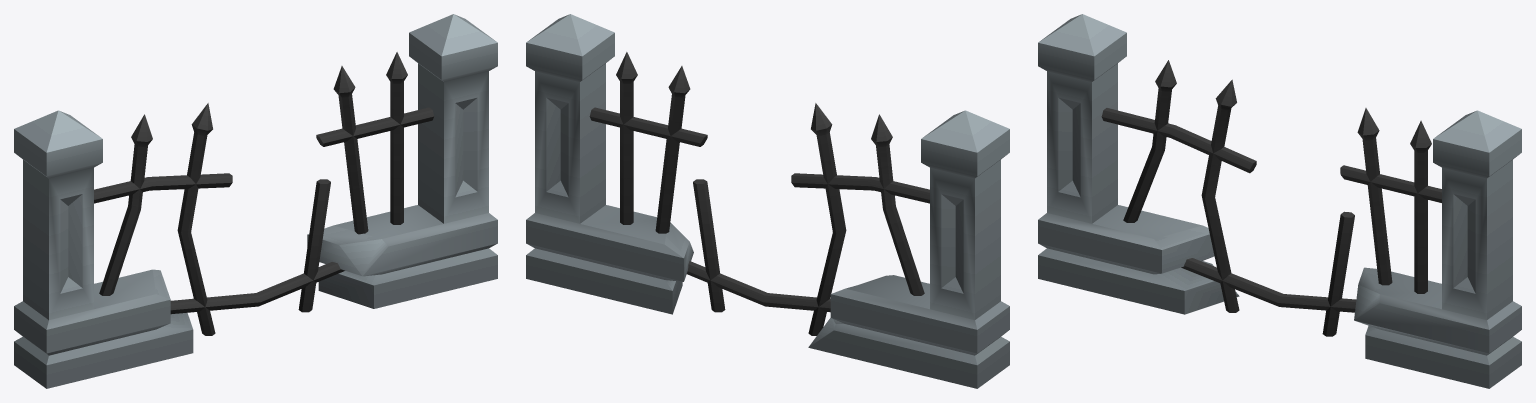
The model's file is hb_fence_broken.glb.
3 renders of one model, left to right at view 1: azimuth 30°, elevation 25°; view 2: azimuth 150°, elevation 25°; view 3: azimuth 330°, elevation 25°, orthographic.
Parts seen in each view (by area): view 1: fence_broken; view 2: fence_broken; view 3: fence_broken.
Boxes of the visible parts, x1,y1,x2,y2 form: fence_broken: (14, 14, 497, 388); fence_broken: (526, 14, 1009, 388); fence_broken: (1038, 14, 1521, 388).
Size of the model in its own units: 2 by 1.1 by 0.25.
1 material, 1 textured.
